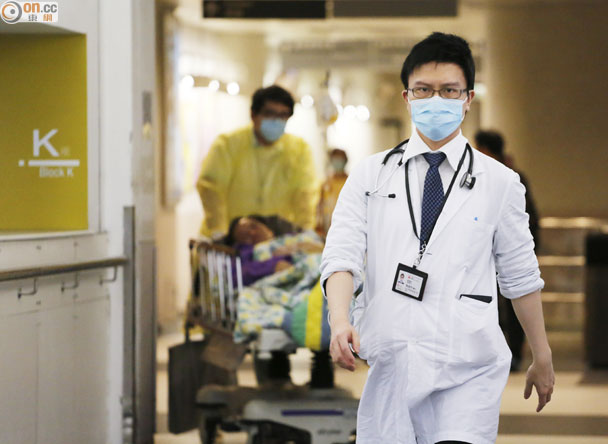mask: (409, 97, 466, 142)
